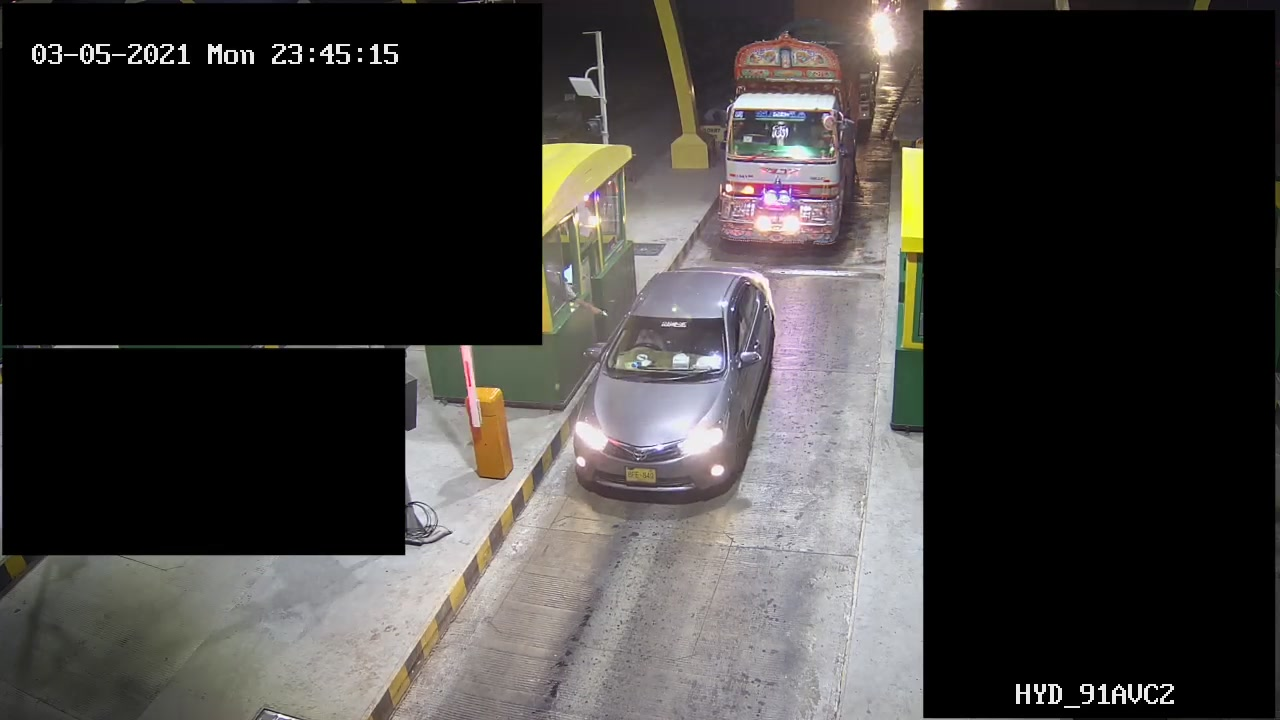F1: (553, 259, 798, 513)
